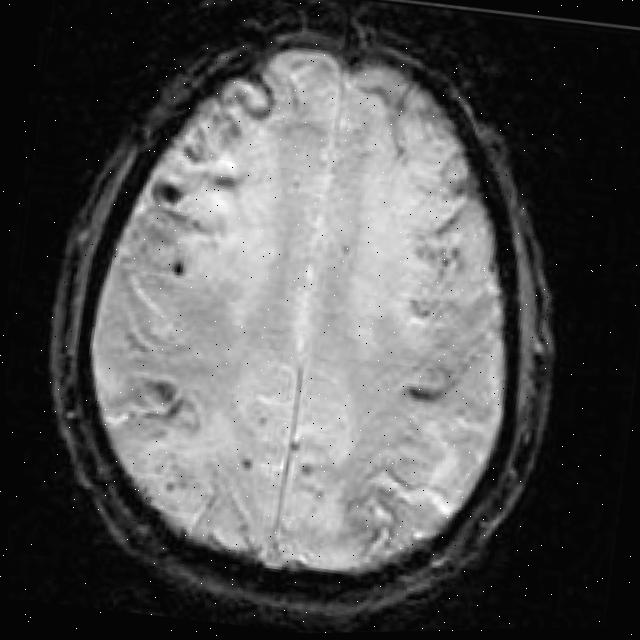NoTumor: (13, 0, 603, 640)
